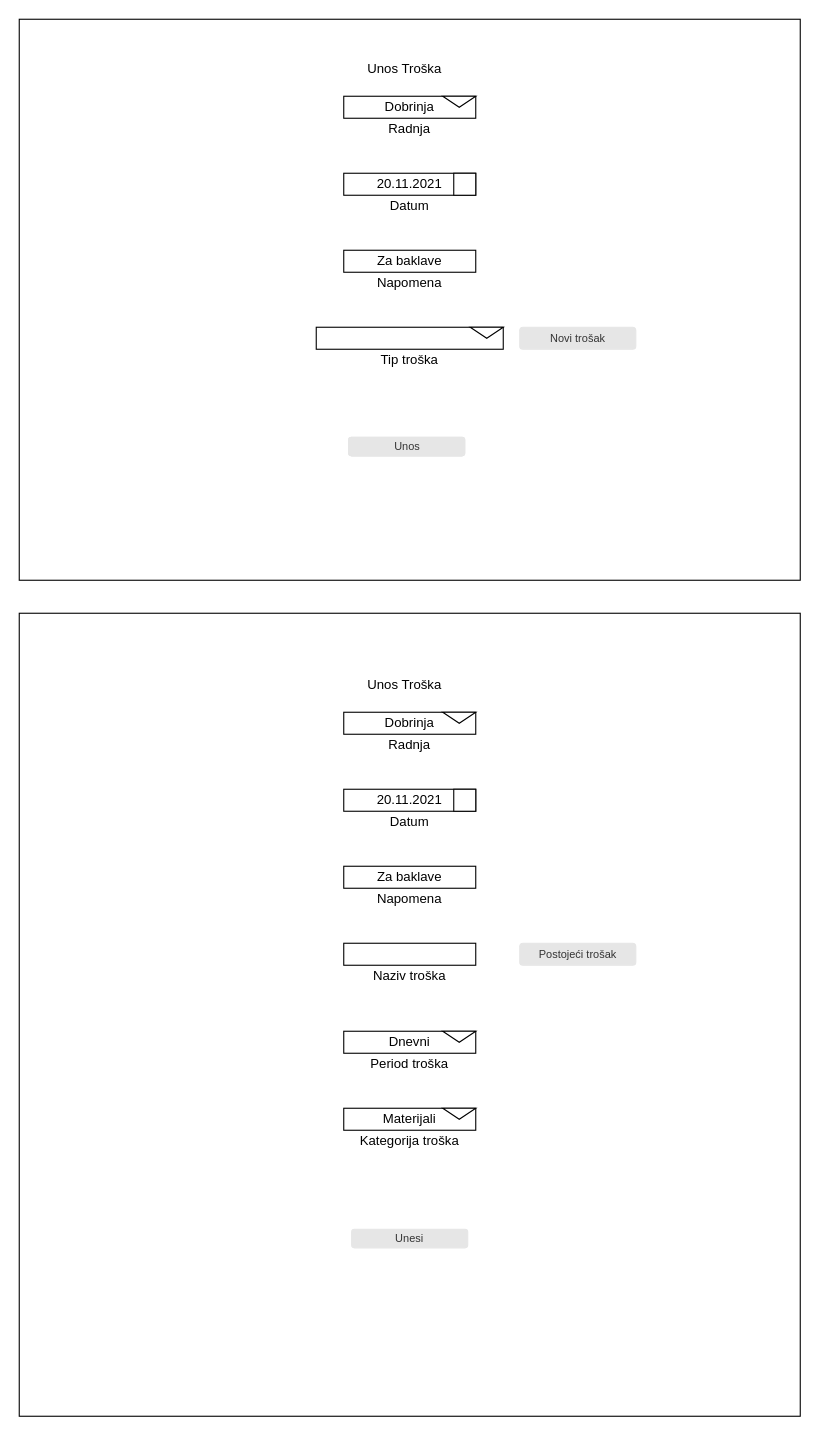
This 820x1436 diagram has some shape labels left out. Each missing label, with the centre of its shape:
Brašno: [409,953]
Dnevni - Materijali - Šećer: [409,337]
